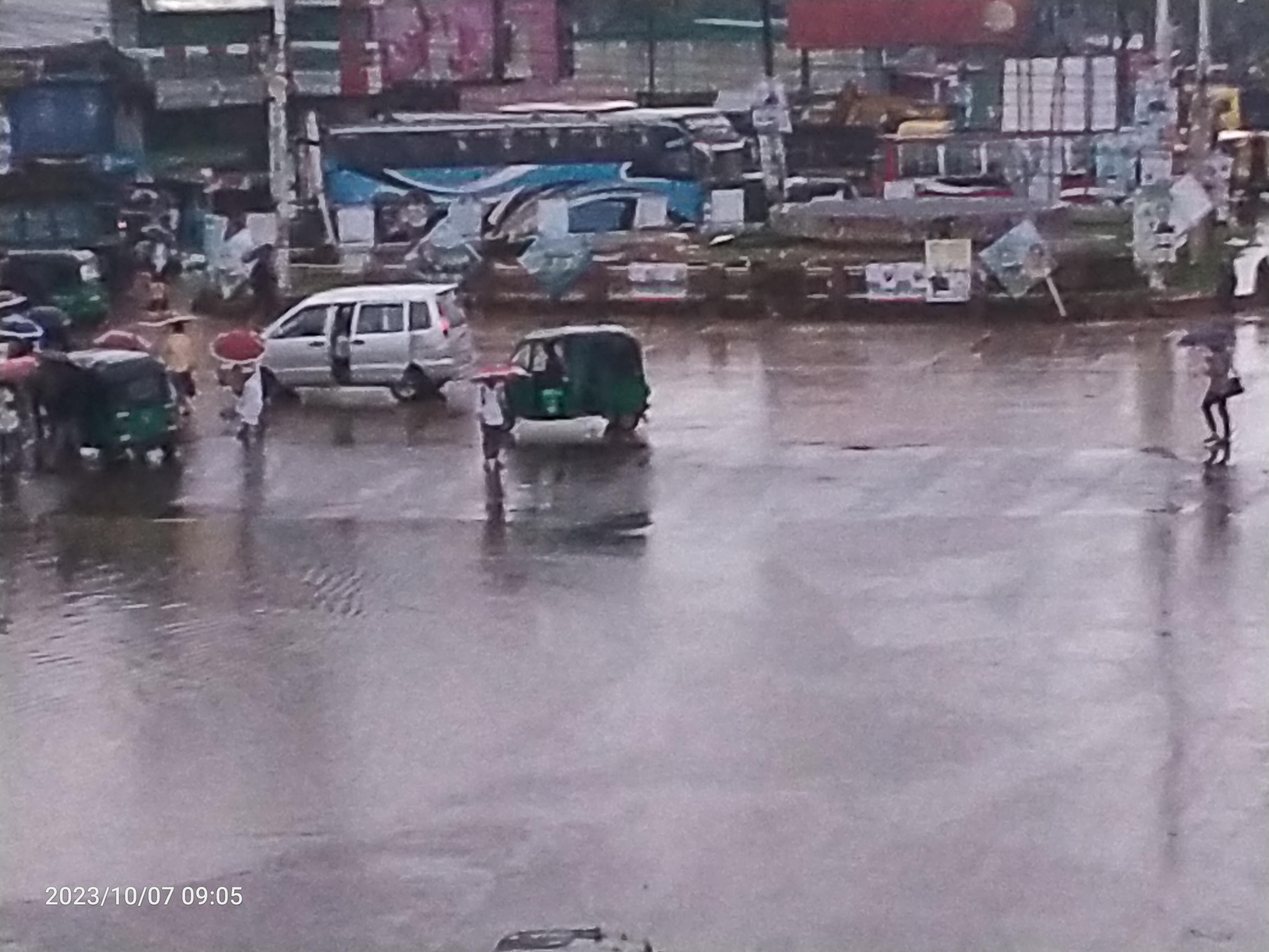Bus: (269, 93, 734, 282), (869, 112, 1174, 222)
Car: (212, 266, 485, 430)
